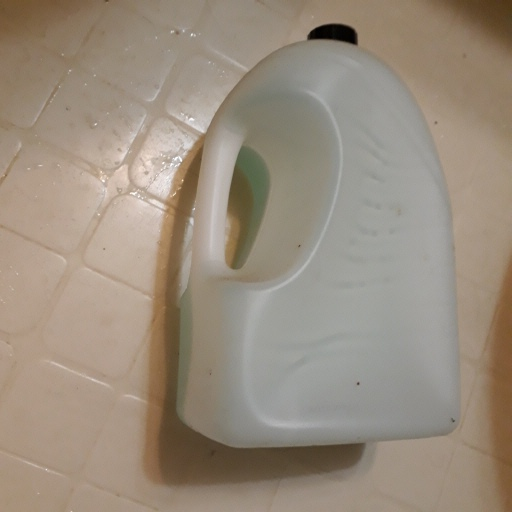Plastic_1: (180, 21, 462, 450)
